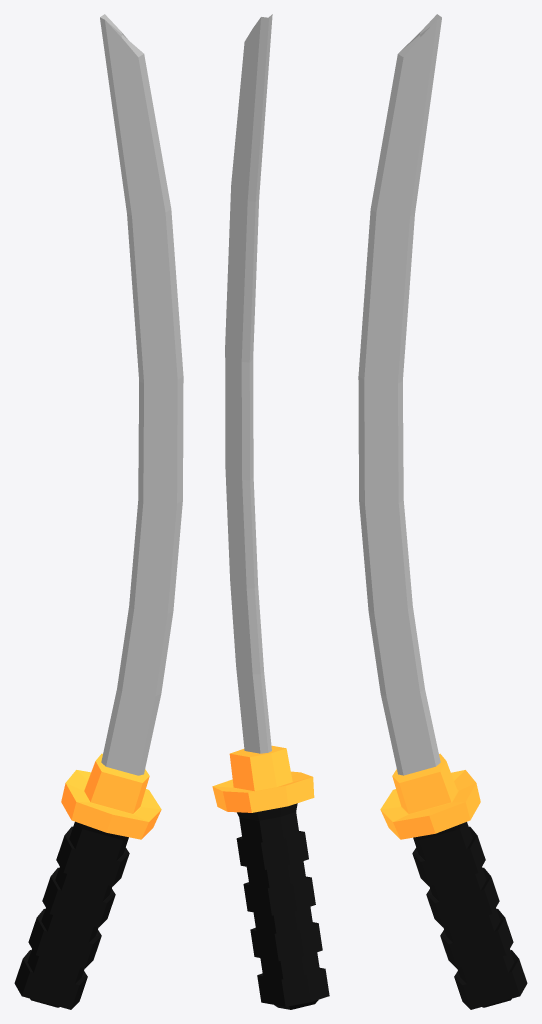
File: katana.glb
The picture shows the model from 3 angles, left to right: view 1: azimuth 90°, elevation 25°; view 2: azimuth 210°, elevation 25°; view 3: azimuth 270°, elevation 25°; orthographic projection.
Parts seen in each view (by area): view 1: Katana; view 2: Katana; view 3: Katana.
Boxes of the visible parts, <box> form: Katana: <box>14,14,183,1009</box>; Katana: <box>212,14,329,1009</box>; Katana: <box>358,14,527,1009</box>.
Bounding box in the file's own units: 0.1552 × 1.85 × 0.2877.
